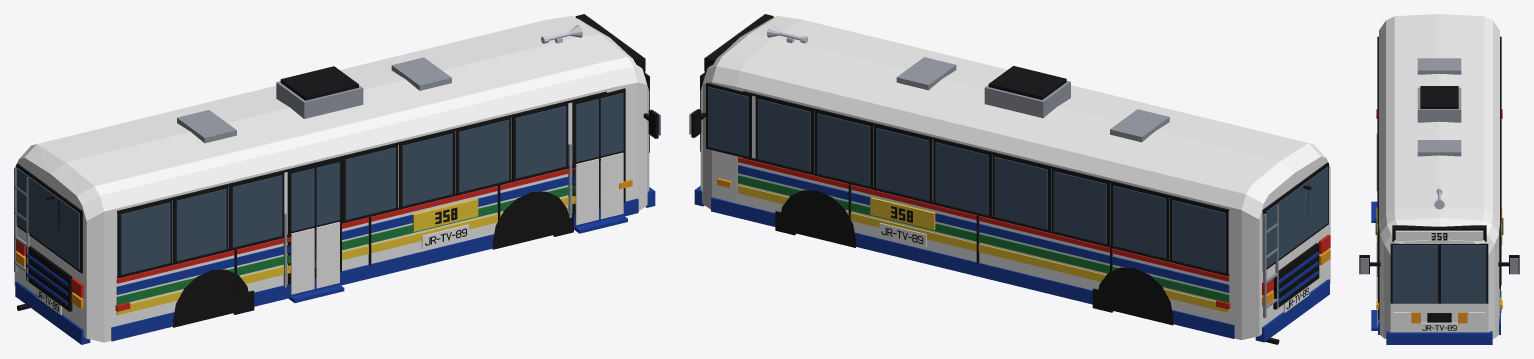
Rendered from micro_multicolor_body.obj.
3 renders of one model, left to right at view 1: azimuth 30°, elevation 25°; view 2: azimuth 150°, elevation 25°; view 3: azimuth 270°, elevation 25°, orthographic. The views are drawn at different scales.
Parts seen in each view (by area): view 1: micro_multicolor_body; view 2: micro_multicolor_body; view 3: micro_multicolor_body.
Boxes of the visible parts, x1,y1,x2,y2 form: micro_multicolor_body: (14,14,660,344); micro_multicolor_body: (689,14,1330,344); micro_multicolor_body: (1359,14,1519,344).
Size of the model in its own units: 10.8 by 3.2 by 3.32.
